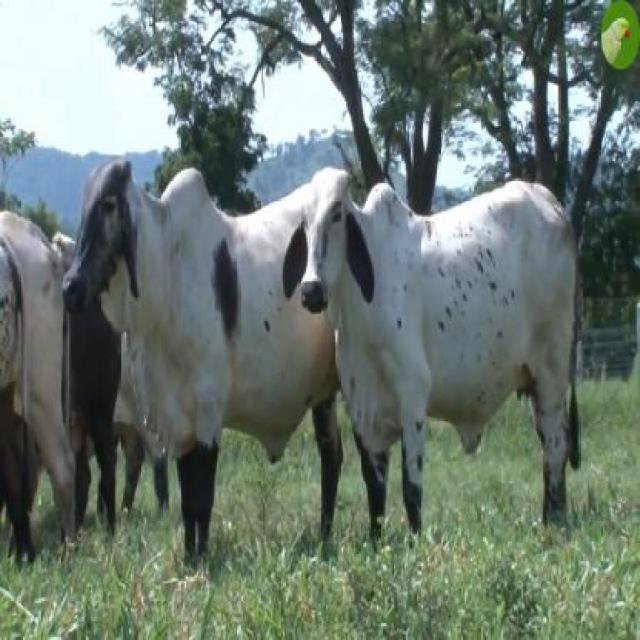Cow: (285, 155, 580, 537)
